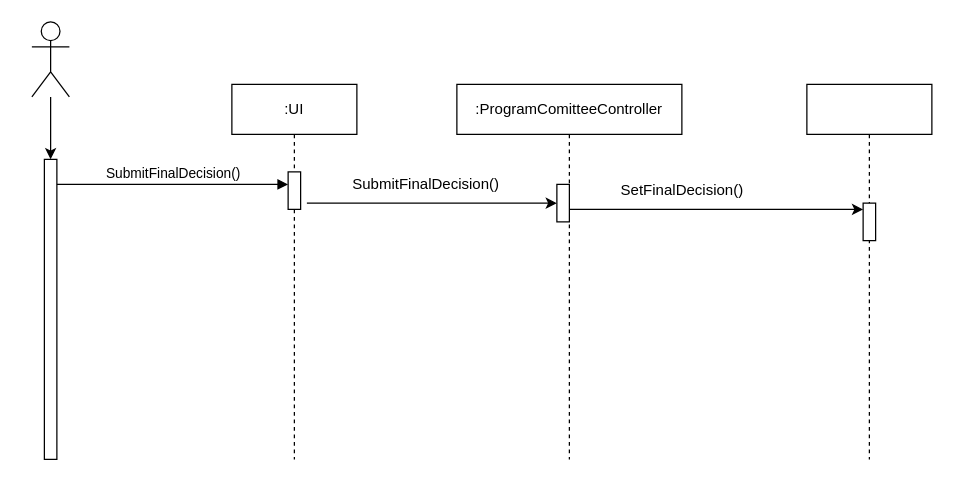
Image size: 954x481. Some labels were removed from this diagram. Here are the shapes that lost their labels. From the top down, the centre of each, then its label:
At [50,59]: ":CoChair".
At [869,271]: ":ReviewRepository".
